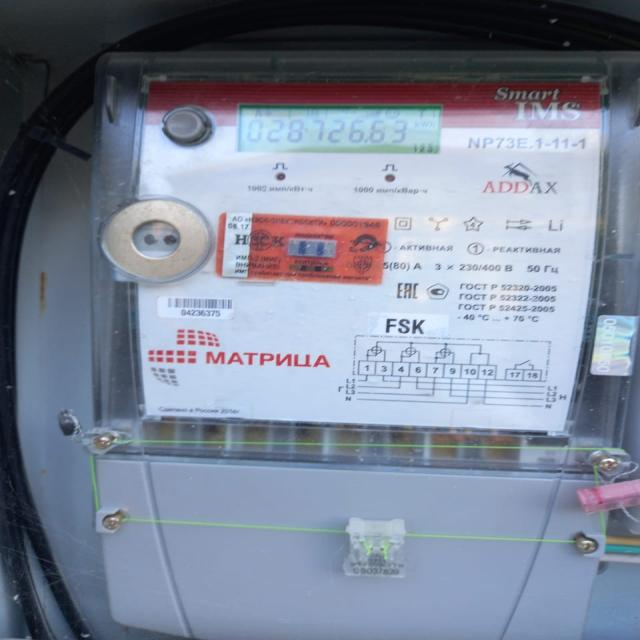Display: (240, 103, 442, 156)
meter_matrica: (90, 49, 640, 566)
meter_number: (154, 296, 236, 319)
seal_imp: (208, 212, 391, 288)
